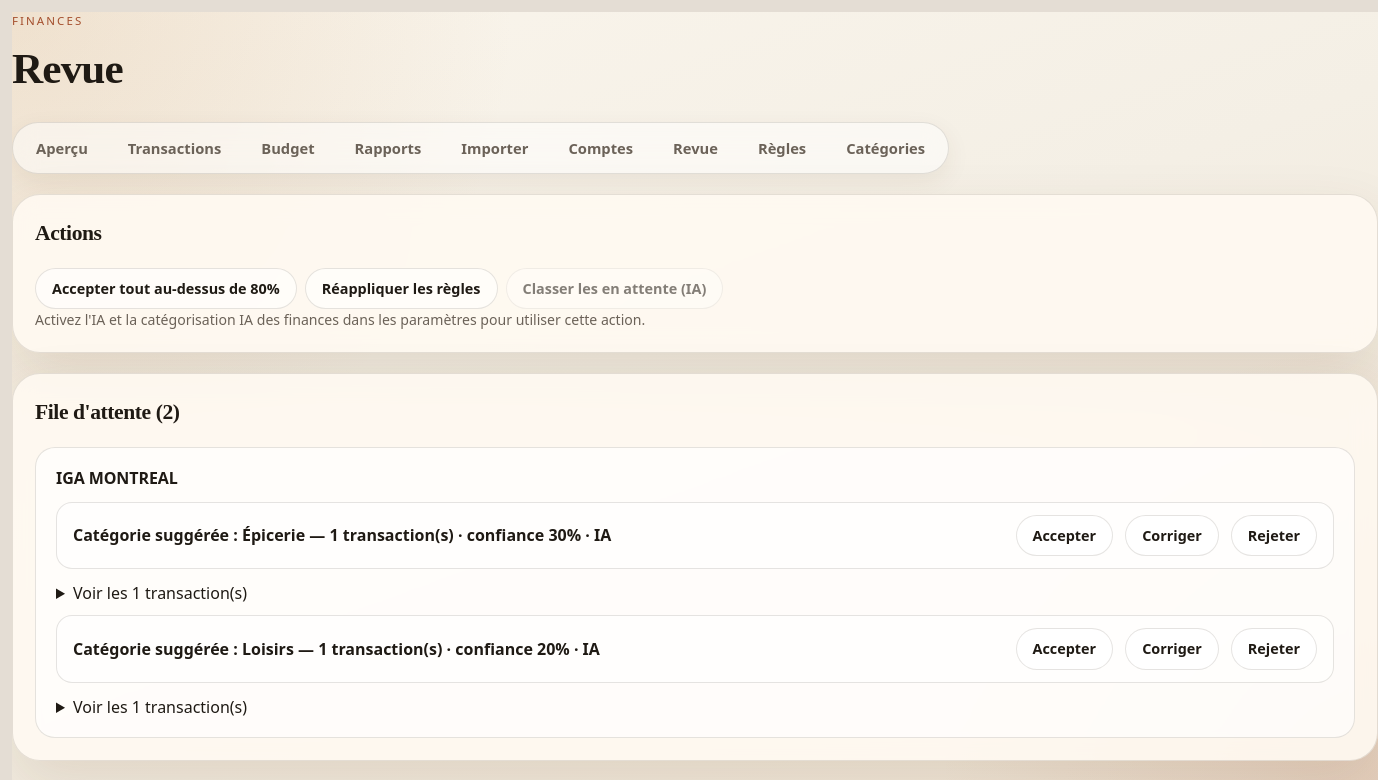
Test: FinanceReviewPage › applies a correction to every pending suggestion of the merchant, whatever category each proposed
Expected: the heading "IGA MONTREAL" is shown, [56,467,178,489]
Click the 1st button "Corriger".
click(1172, 535)  # box [1125,515,1219,556]
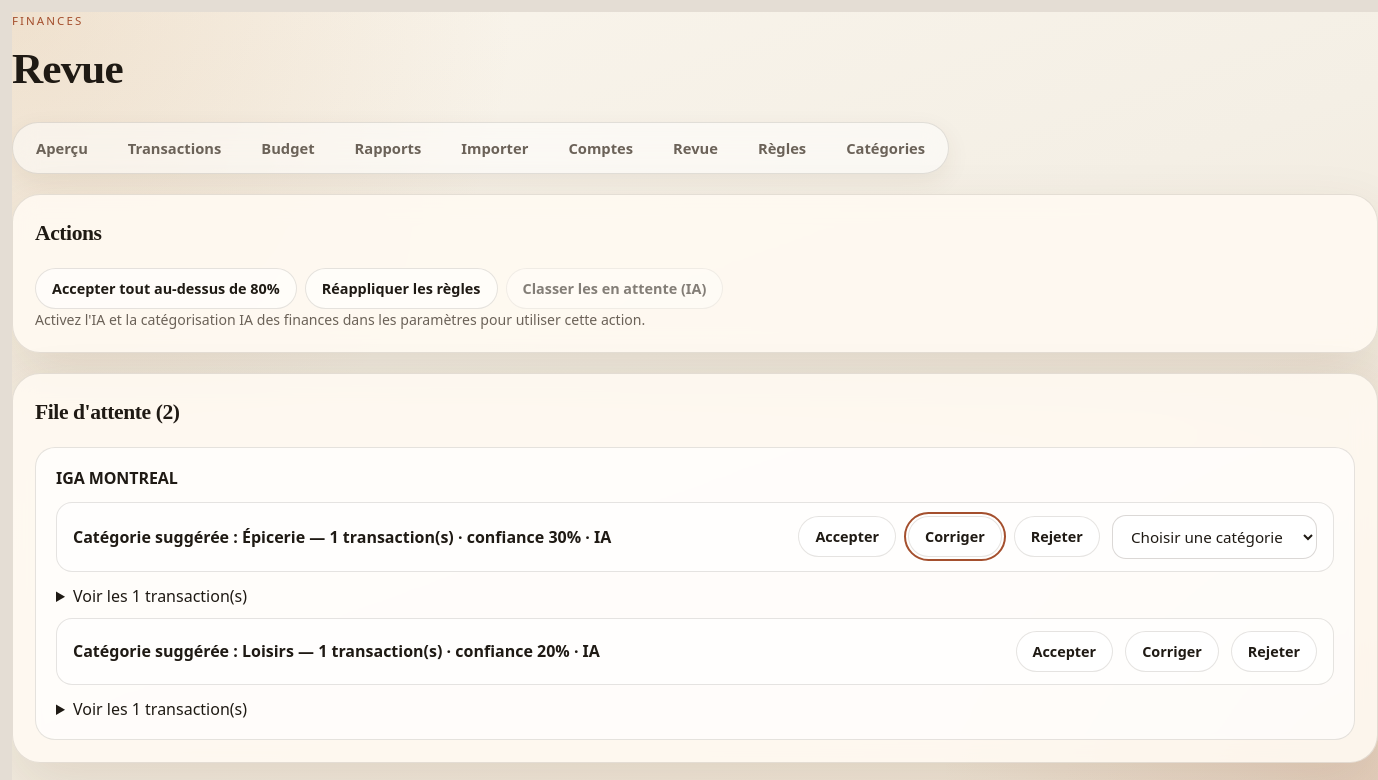
Select "Restaurants" in the dropdown at point(1214, 537), box [1112,515,1317,559]
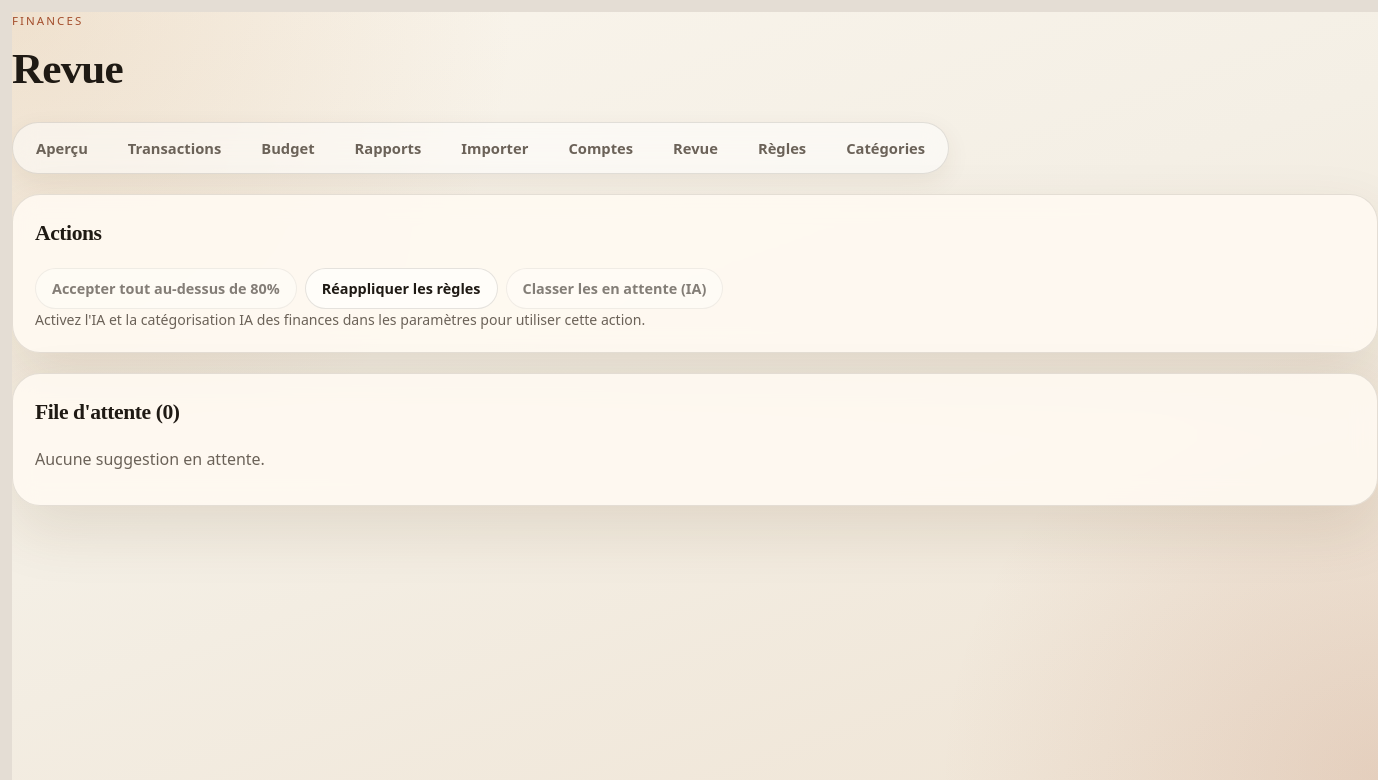
Now the text "Aucune suggestion en attente." is shown, box [35,448,265,470]
